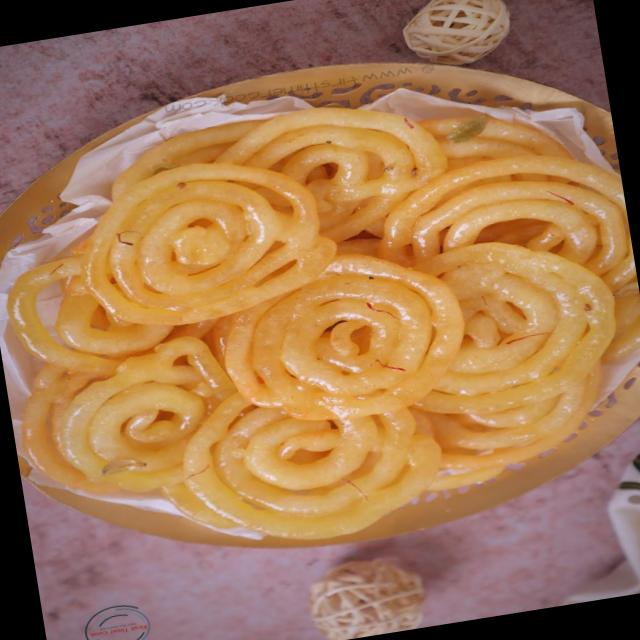jalebi: (0, 61, 640, 566)
